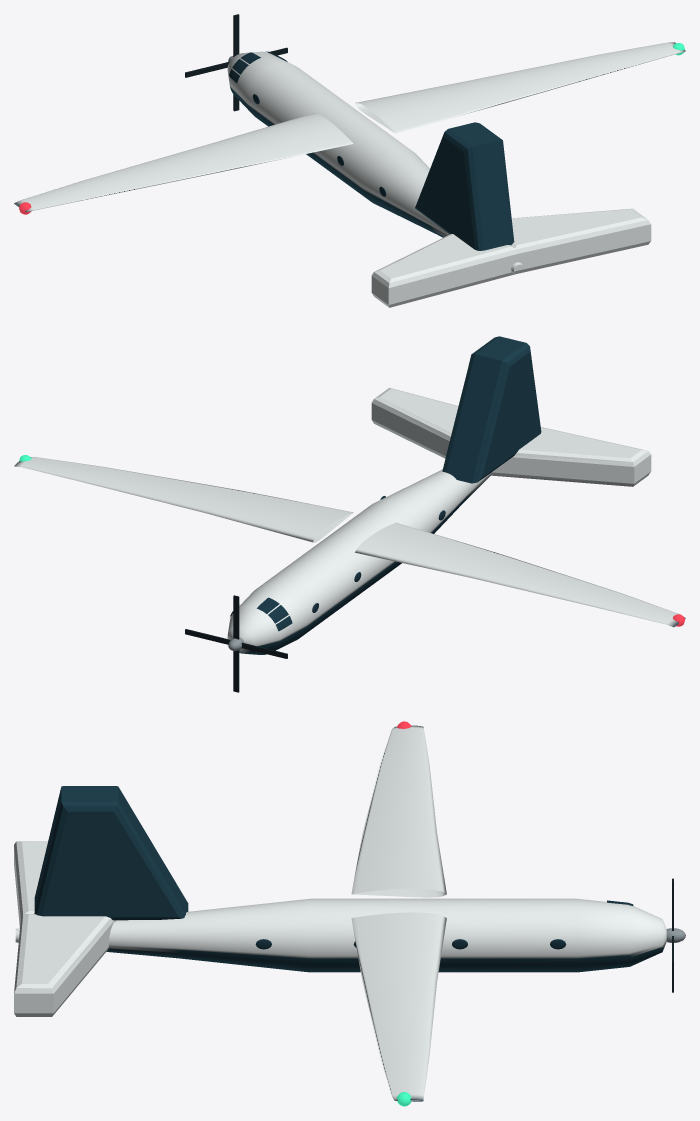
3 views of the same model, one above another, from view 1: azimuth 30°, elevation 25°; view 2: azimuth 150°, elevation 25°; view 3: azimuth 270°, elevation 25° (orthographic). The views are drawn at different scales.
Size of the model in its own units: 11 by 2.57 by 8.28.
